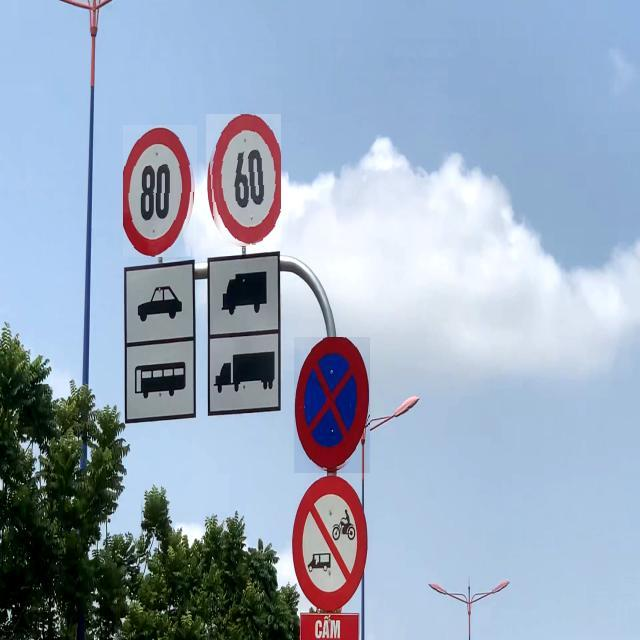P-127: (206, 115, 281, 249), (124, 125, 198, 257)
P-130: (294, 337, 370, 473)
